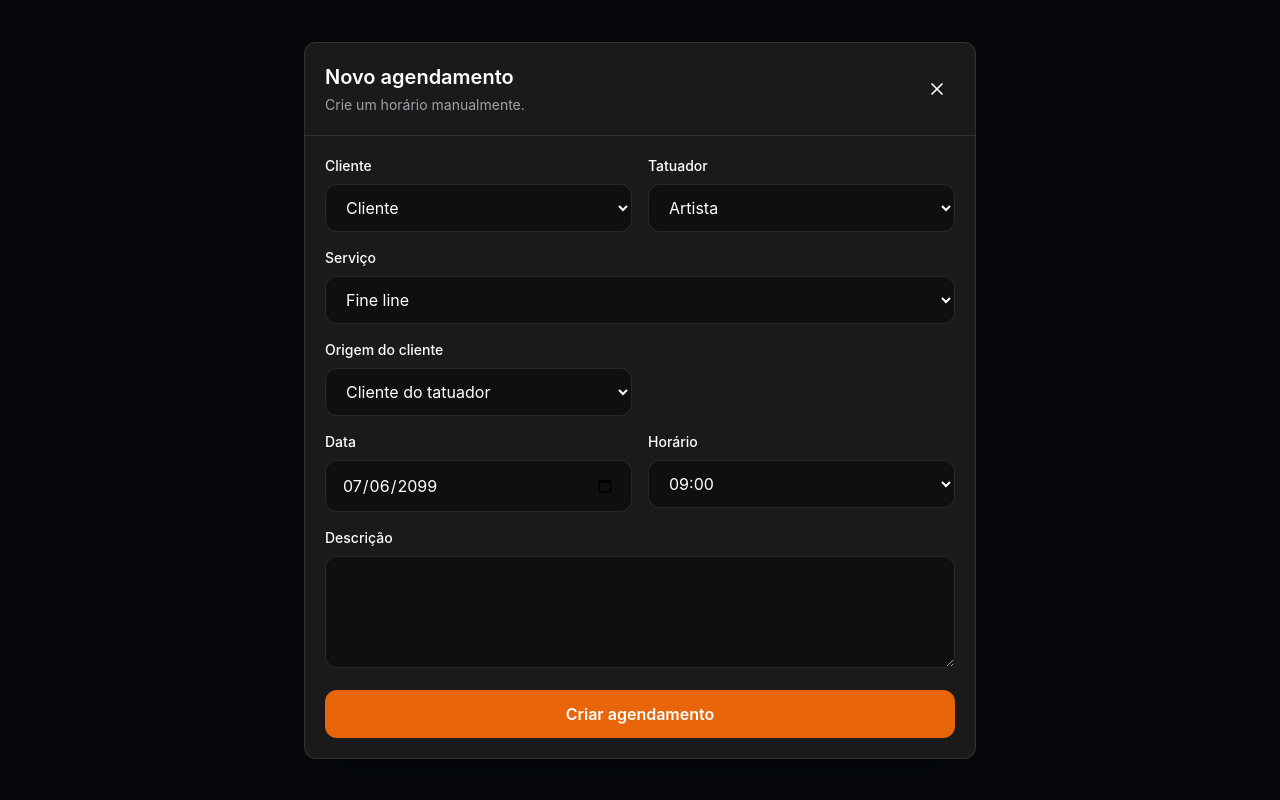
Scenario: NewAppointmentModal › tatuador recebe bloqueio sem confirmacao
Step 1. Type "Fine line" into the text box labelled "Descrição" → (640, 612), box [325,556,955,668]
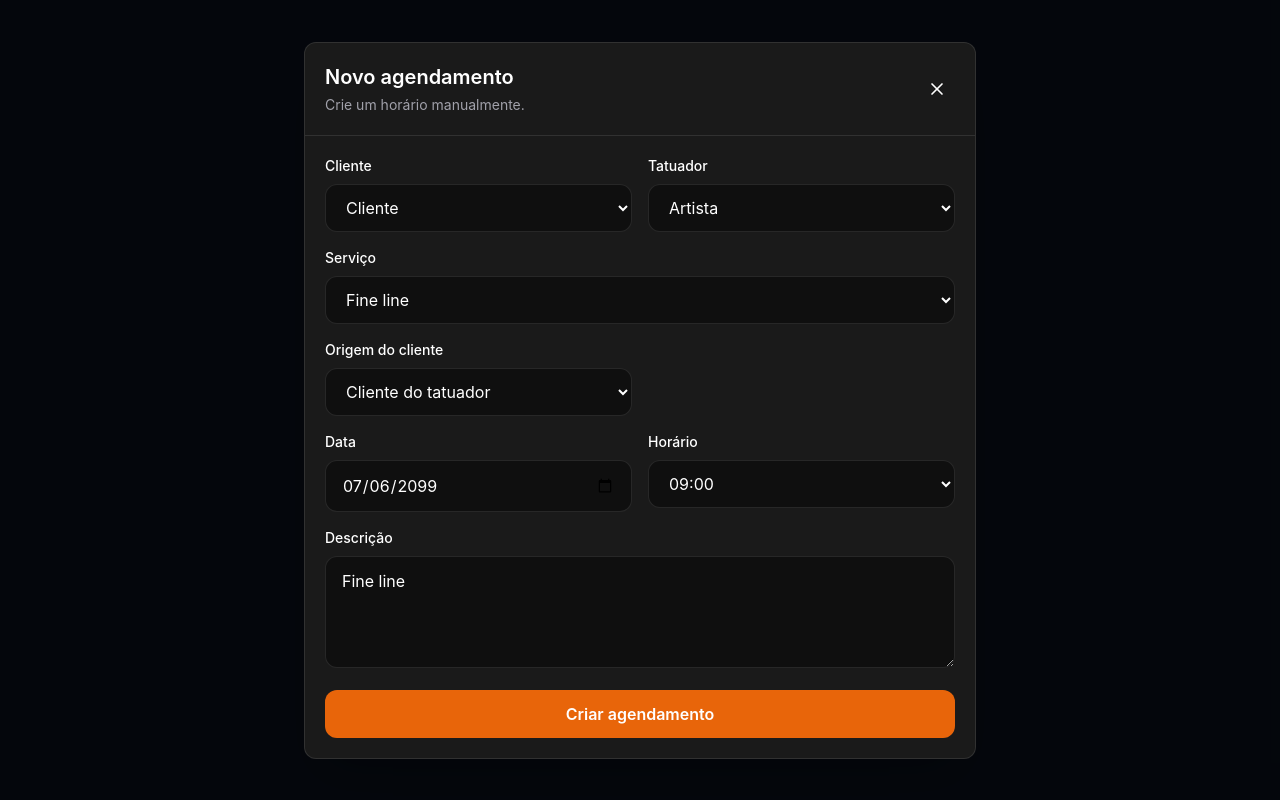
Step 2. Click the button "Criar agendamento" → (640, 714), box [325,690,955,738]
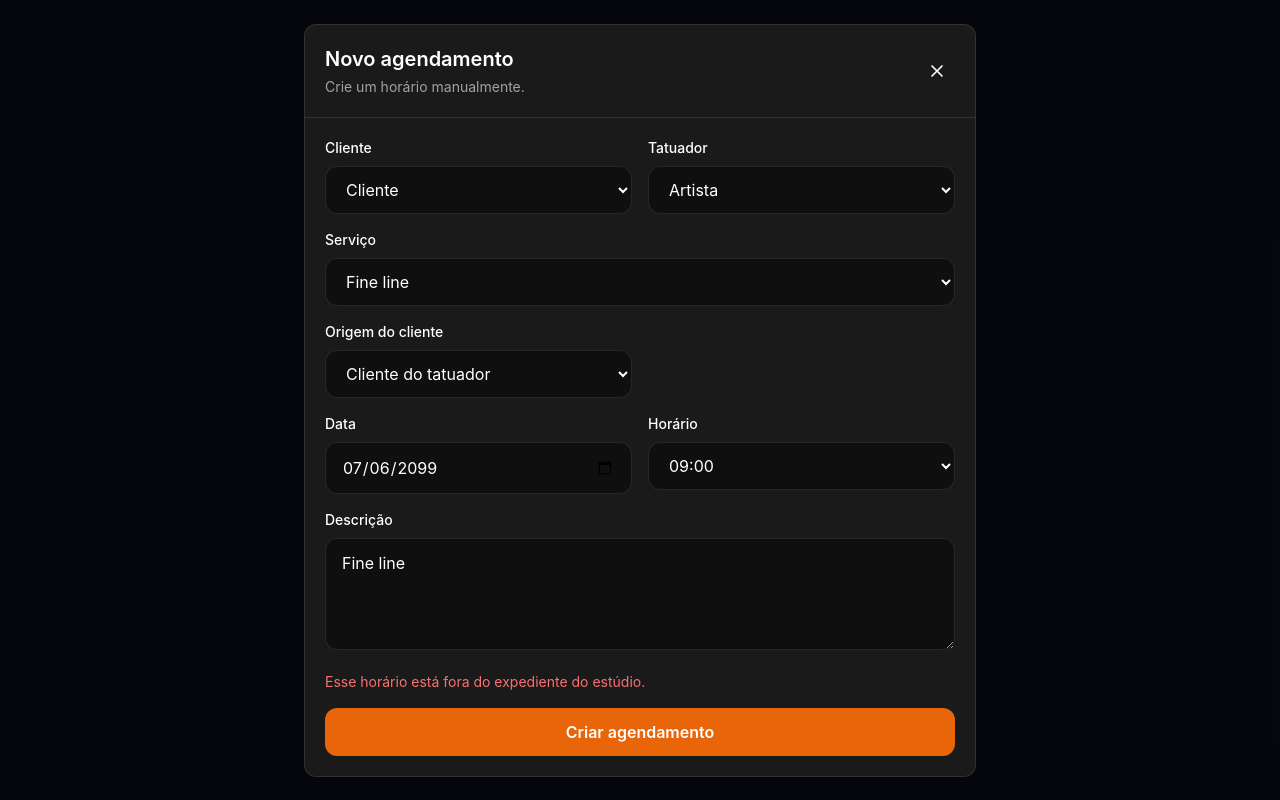
Expected: the text "Esse horário está fora do expediente do estúdio." is shown, [325,672,645,690]
